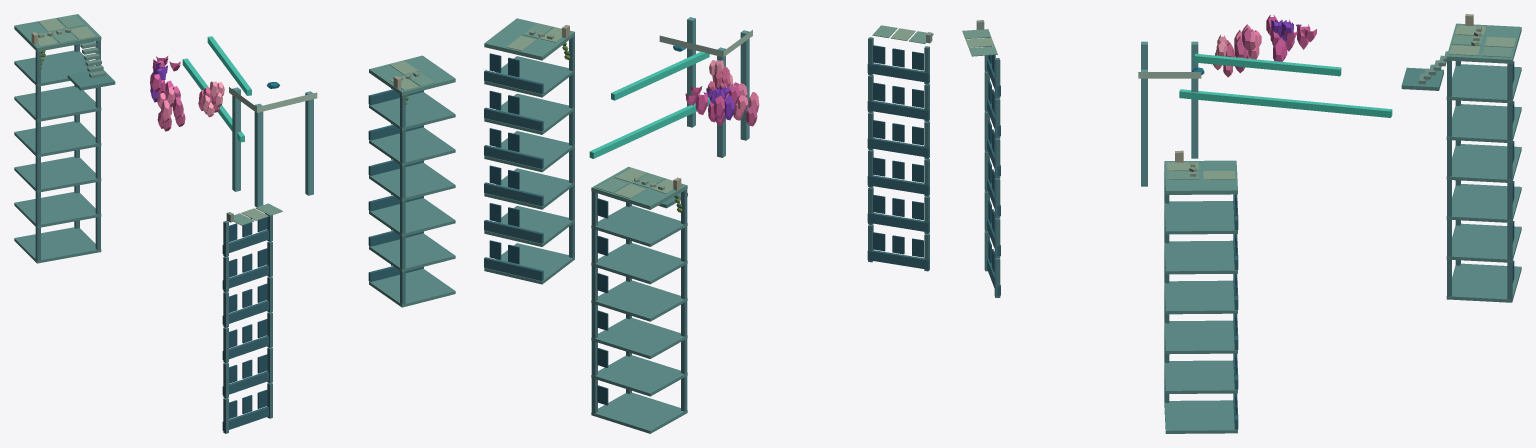
Rendered from base_solar_cabin_harbor_surroundings.glb.
3 views of the same model, side by side, from view 1: azimuth 30°, elevation 25°; view 2: azimuth 150°, elevation 25°; view 3: azimuth 270°, elevation 25° (orthographic). The views are drawn at different scales.
Visible parts, largest first — view 1: 太阳能木屋-海下基座-02.001; view 2: 太阳能木屋-海下基座-02.001; view 3: 太阳能木屋-海下基座-02.001.
Part boxes in pixels (x1,y1,x2,y2): 太阳能木屋-海下基座-02.001: [14, 14, 455, 433]; 太阳能木屋-海下基座-02.001: [484, 17, 933, 433]; 太阳能木屋-海下基座-02.001: [962, 14, 1521, 433].
Bounding box in the file's own units: 25.78 × 20.02 × 35.58.
